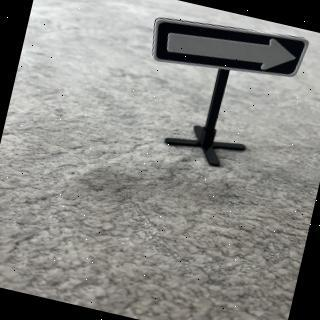sign_oneway_right: (146, 4, 312, 95)
